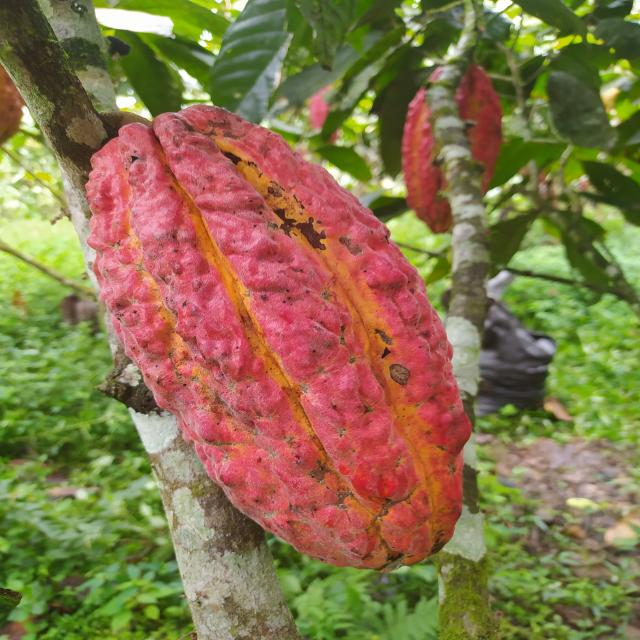Sana: (82, 103, 475, 573), (402, 61, 504, 235)
